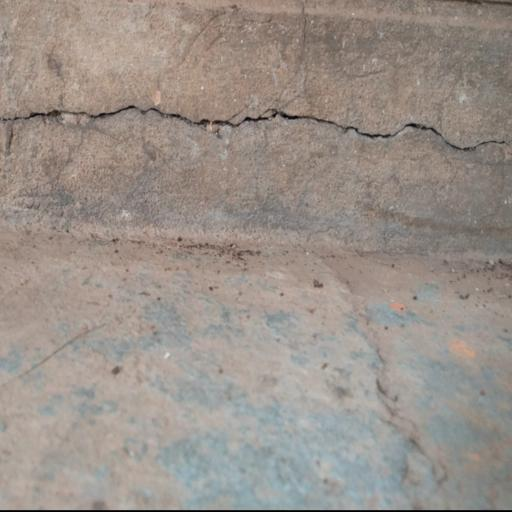major_crack: (0, 74, 512, 161)
